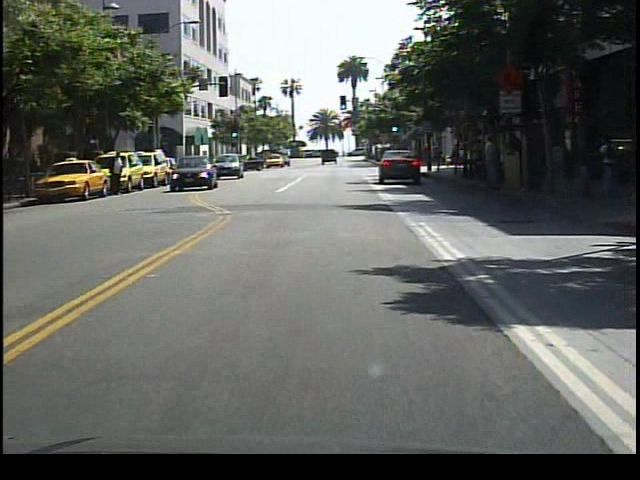person: (479, 131, 504, 198), (110, 147, 128, 199)
